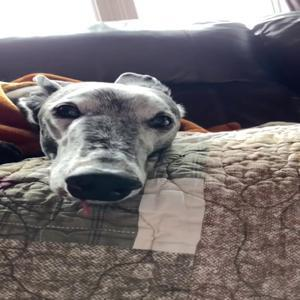nasal_discharge: (66, 184, 98, 220)
